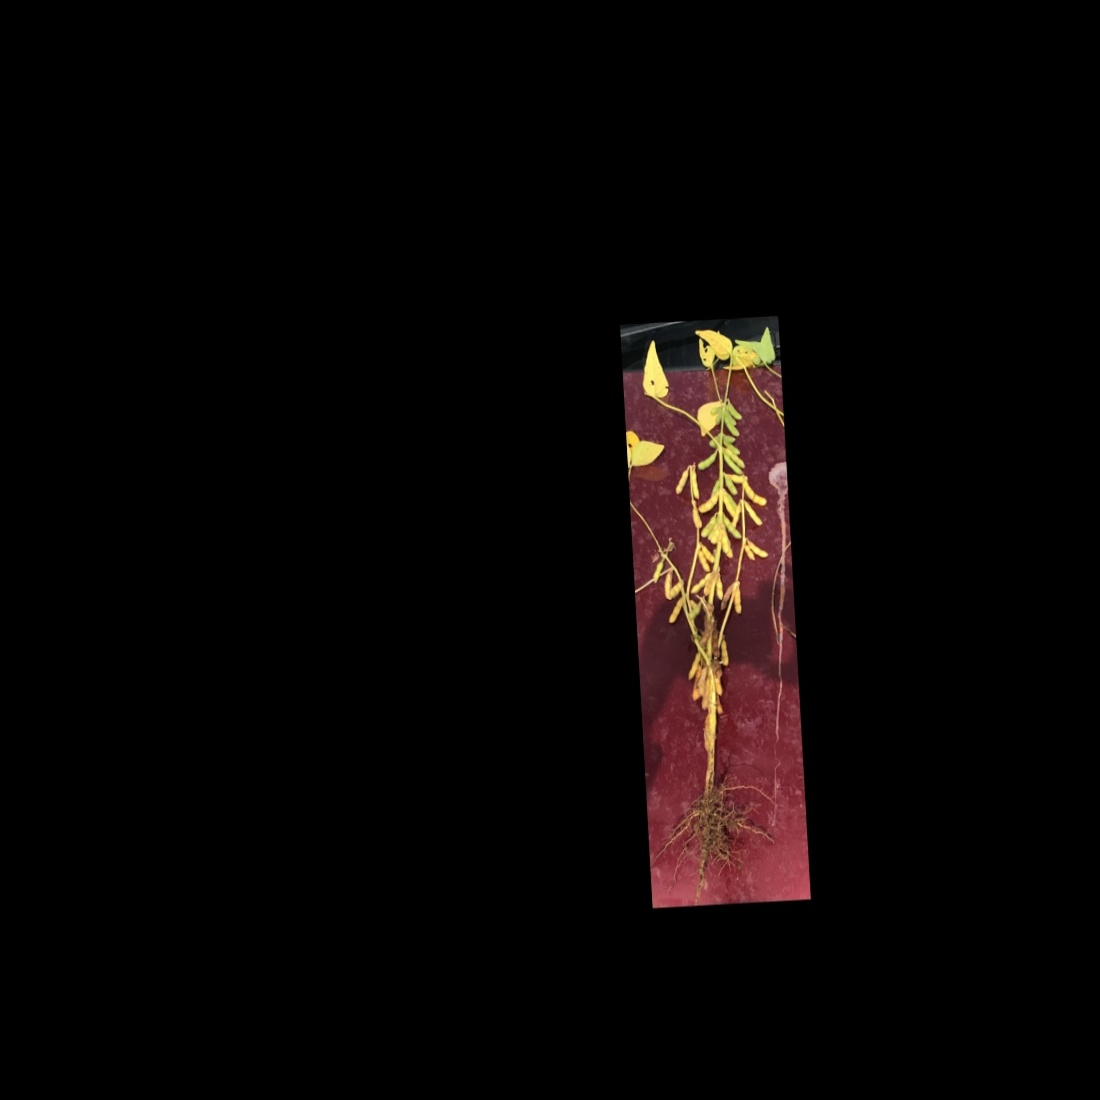pod: (739, 475, 769, 510), (663, 594, 688, 629), (687, 568, 715, 595), (695, 447, 722, 473), (720, 446, 746, 473), (671, 466, 692, 499), (721, 451, 745, 479), (721, 510, 742, 541), (746, 534, 772, 560), (695, 487, 720, 513), (690, 546, 712, 573), (721, 411, 742, 439), (684, 652, 703, 682), (742, 501, 764, 528), (731, 582, 746, 618), (694, 450, 719, 471), (688, 462, 702, 499), (722, 472, 739, 501), (711, 571, 725, 605), (718, 635, 731, 667), (664, 577, 687, 595), (725, 401, 745, 421)
soy: (630, 334, 805, 883)
